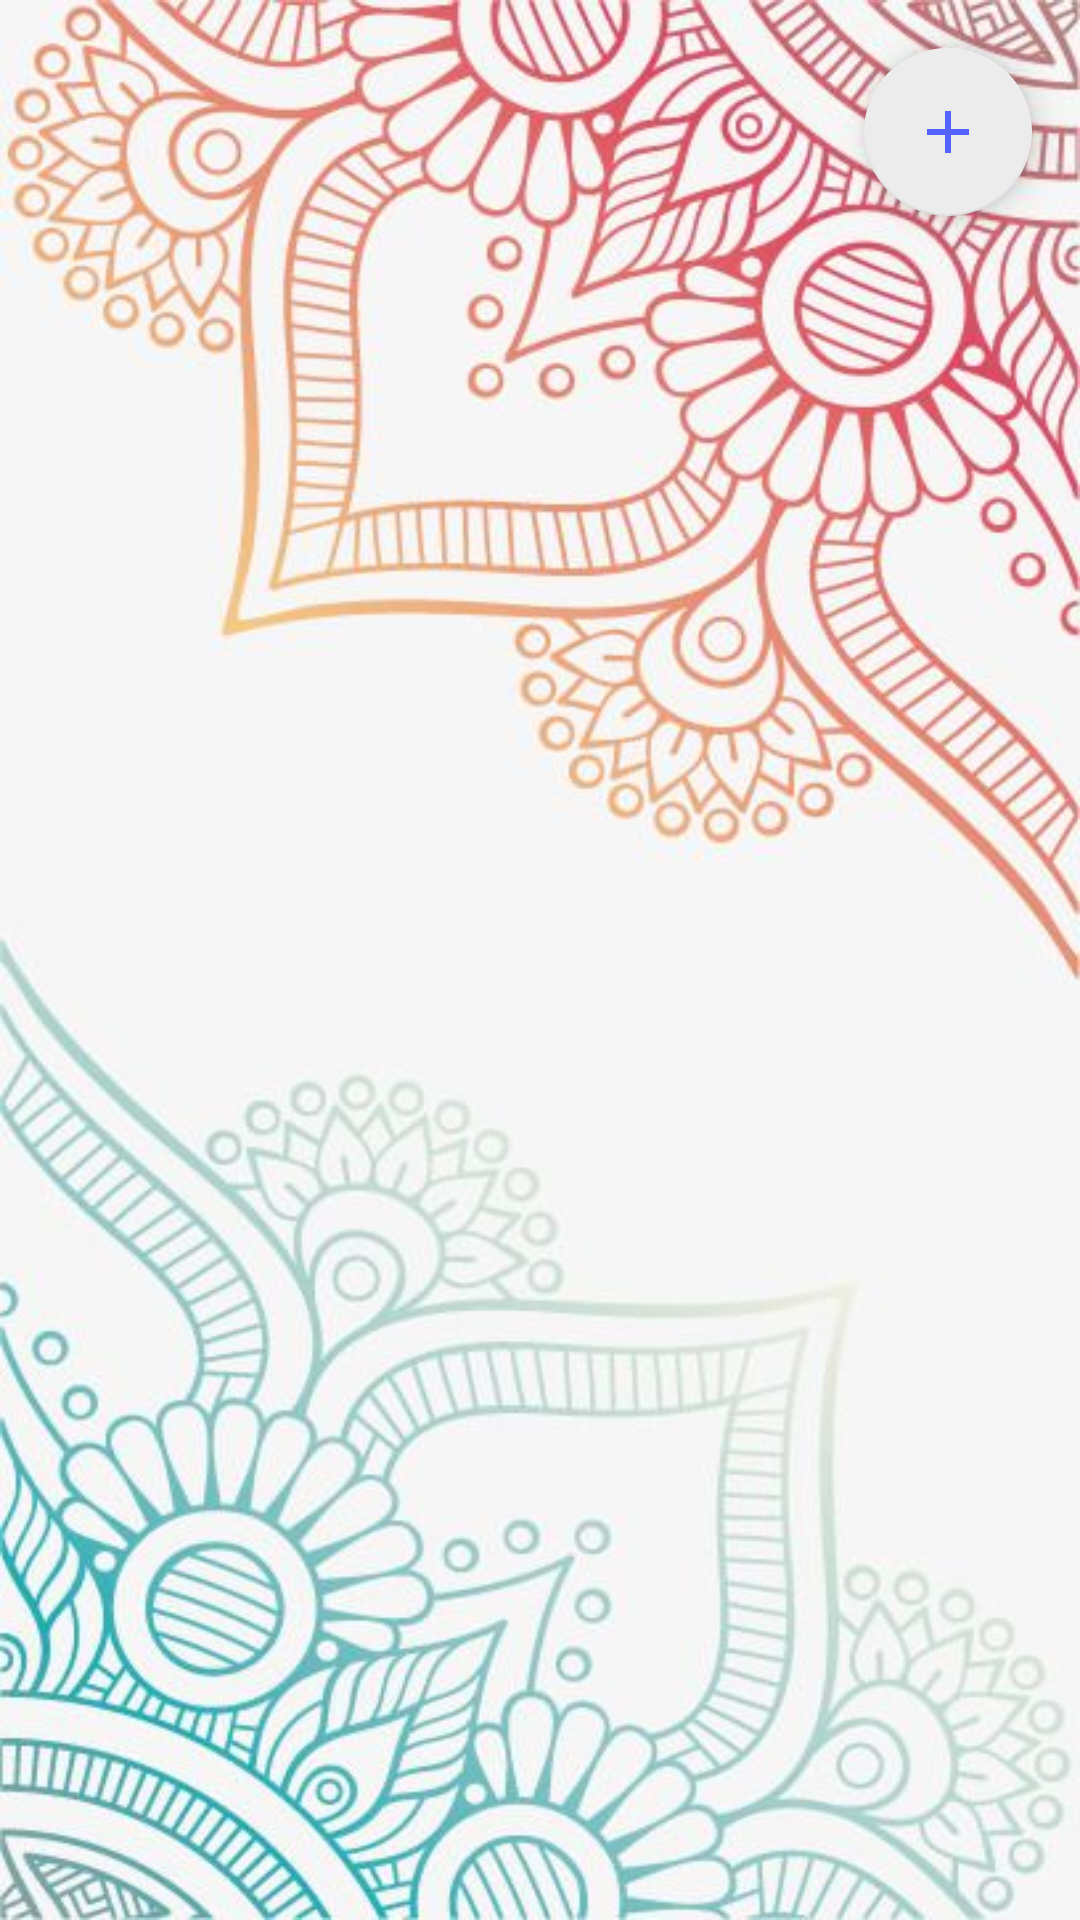

Screen size 1080 × 1920. Icon name, then its center in pixels as point (x, y):
add: point (948, 132)
